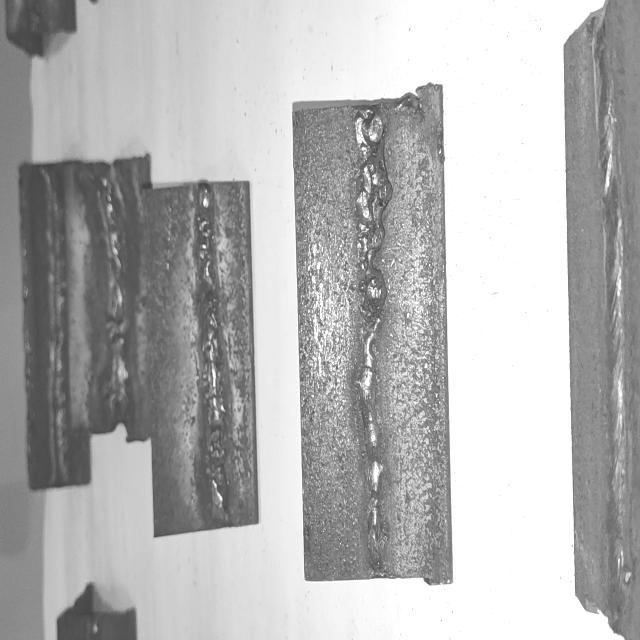Defect: (354, 116, 389, 573), (194, 198, 228, 524), (46, 174, 67, 481), (100, 168, 125, 424)
Welding Line: (593, 14, 628, 632), (360, 113, 384, 560), (198, 196, 228, 522), (42, 174, 66, 480), (103, 184, 128, 418)
Workpiece: (294, 91, 457, 588), (562, 1, 640, 640), (154, 192, 257, 534), (74, 158, 164, 436), (22, 160, 92, 488)
